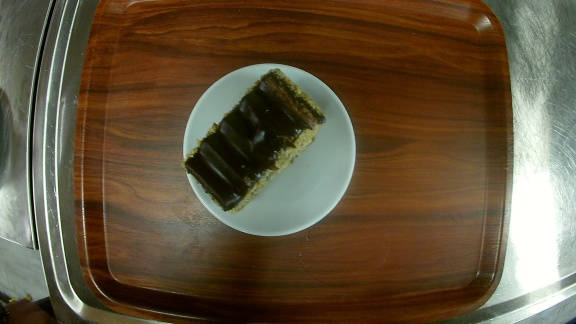muzlupasta: (183, 62, 358, 235)
